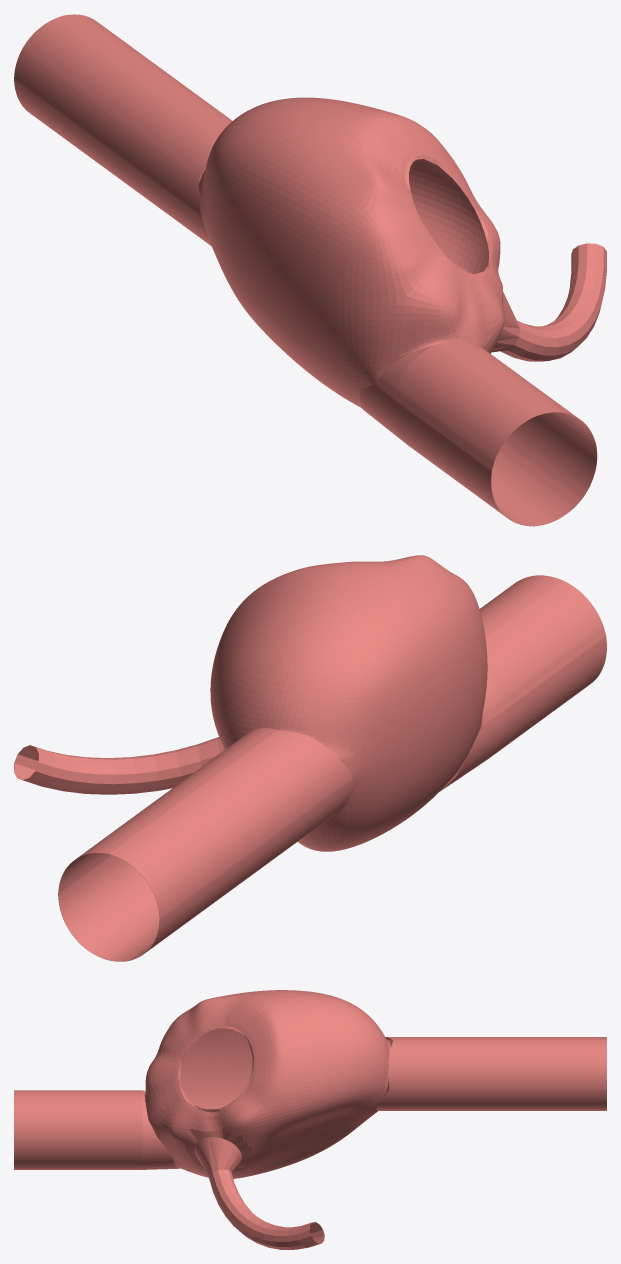
File: simulated_heart.glb
3 views of the same model, one above another, from view 1: azimuth 30°, elevation 25°; view 2: azimuth 150°, elevation 25°; view 3: azimuth 270°, elevation 25° (orthographic). The views are drawn at different scales.
Visible parts, largest first — view 1: Simulated heart; view 2: Simulated heart; view 3: Simulated heart.
Boxes of the visible parts, left/top/right/bottom form: Simulated heart: left=14, top=14, right=606, bottom=526; Simulated heart: left=14, top=555, right=606, bottom=961; Simulated heart: left=14, top=990, right=606, bottom=1249.
Size of the model in its own units: 0.0711 by 0.0484 by 0.1469.
